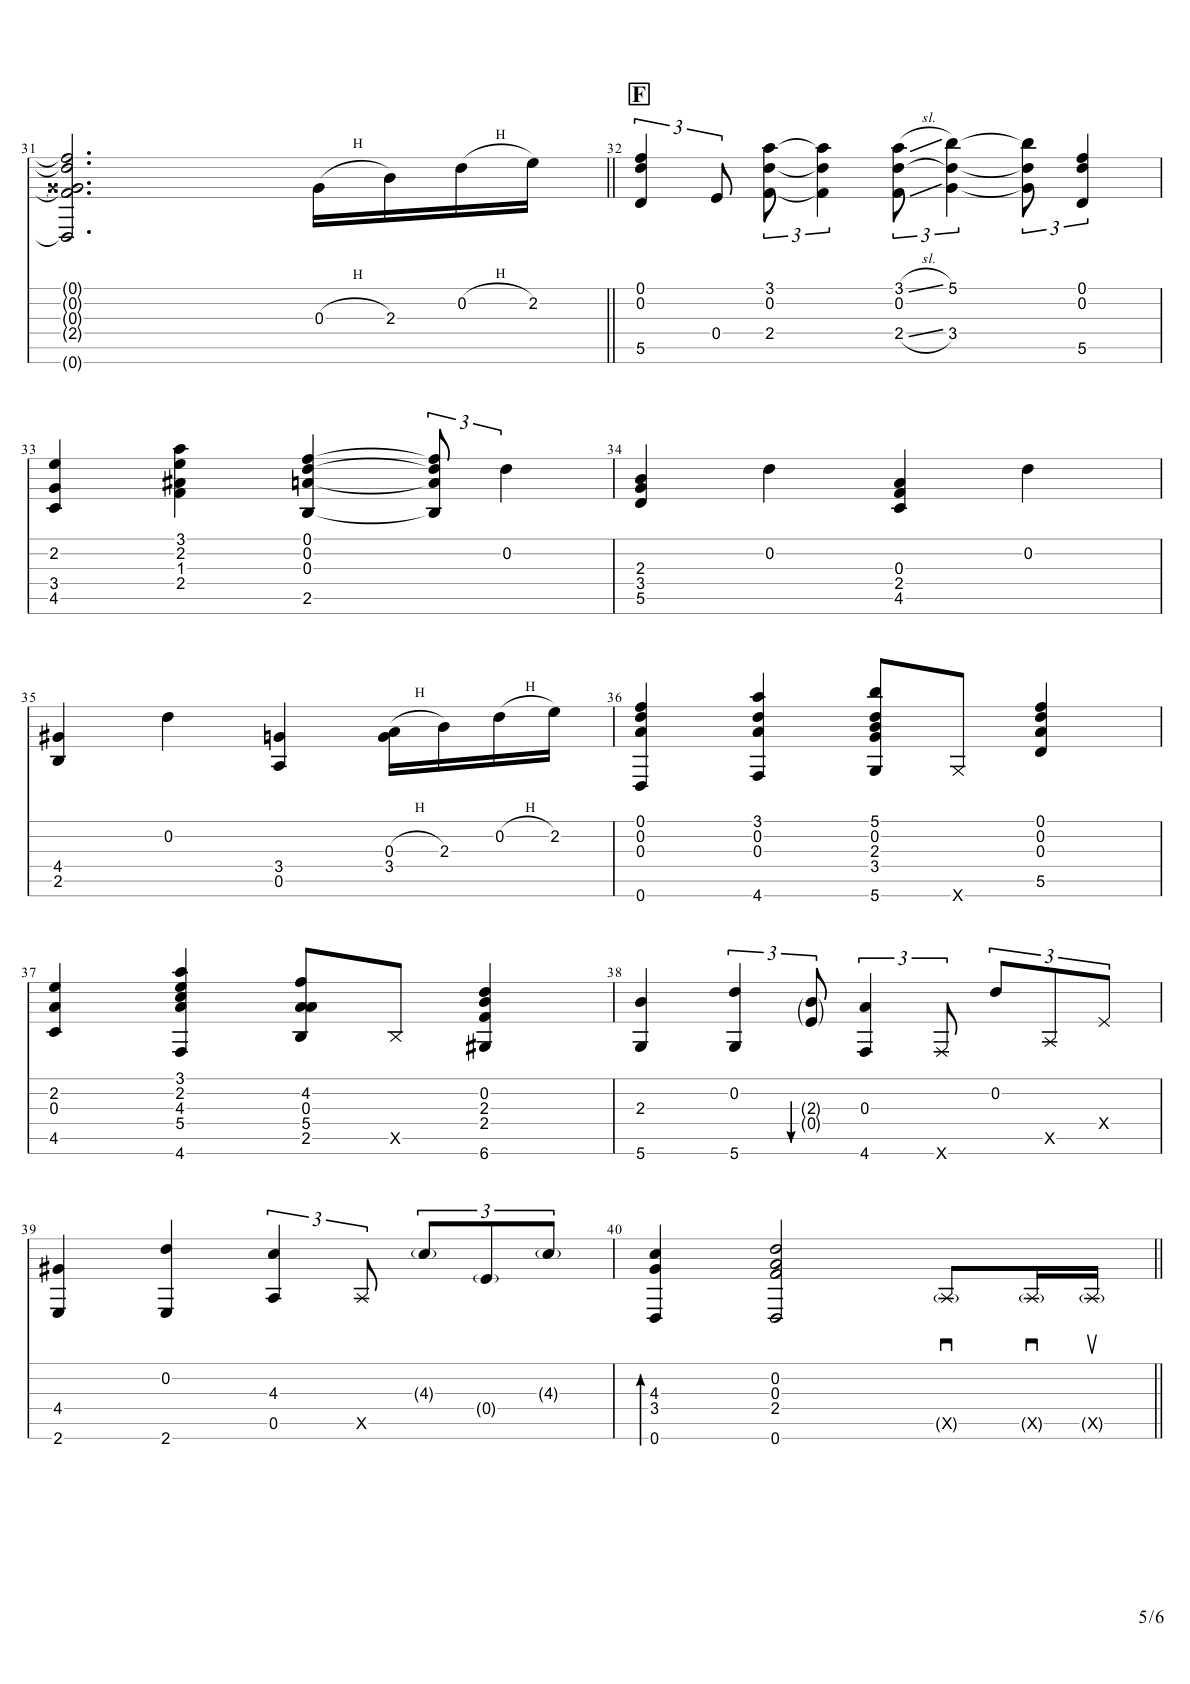0: (675, 179, 695, 200), (738, 179, 759, 200), (865, 179, 886, 200), (675, 219, 695, 239), (738, 219, 759, 239), (464, 297, 484, 318), (464, 318, 484, 339), (697, 439, 717, 460), (478, 660, 498, 681), (478, 700, 498, 721), (628, 721, 649, 742), (314, 219, 334, 239), (589, 179, 608, 200), (798, 179, 818, 200), (675, 200, 695, 219), (738, 200, 759, 219), (738, 239, 759, 259), (564, 318, 583, 339), (806, 297, 826, 318), (806, 318, 826, 339), (665, 418, 684, 439), (873, 418, 892, 439), (873, 439, 892, 460), (497, 479, 516, 500), (873, 479, 892, 500), (663, 600, 683, 621), (780, 579, 800, 600), (780, 600, 800, 621), (829, 560, 850, 579), (343, 681, 363, 700), (546, 660, 565, 681), (546, 700, 565, 721), (589, 200, 608, 219), (806, 339, 826, 358), (497, 399, 516, 418), (873, 460, 892, 479), (497, 460, 516, 479), (529, 500, 549, 519), (873, 500, 892, 519), (529, 560, 549, 579), (780, 560, 800, 579), (900, 560, 920, 579)
1: (380, 318, 401, 339)
2: (771, 219, 792, 239), (630, 297, 650, 318), (722, 297, 743, 318), (722, 418, 743, 439), (774, 439, 795, 460), (343, 700, 363, 721), (372, 219, 392, 239), (771, 200, 792, 219), (297, 297, 317, 318), (380, 339, 401, 358), (464, 339, 484, 358), (497, 439, 516, 460), (529, 579, 549, 600), (529, 600, 549, 621), (628, 560, 649, 579), (279, 560, 299, 579)
3: (380, 297, 401, 318), (630, 318, 650, 339), (722, 318, 743, 339), (628, 700, 649, 721), (675, 162, 695, 182), (738, 162, 759, 182), (865, 162, 886, 182), (297, 318, 317, 339), (798, 162, 818, 182), (826, 200, 845, 219)
4: (410, 660, 430, 681), (497, 418, 516, 439), (596, 479, 616, 500), (279, 579, 299, 600), (279, 600, 299, 621), (628, 681, 649, 700), (297, 339, 317, 358), (665, 500, 684, 519)
5: (826, 219, 845, 239), (865, 239, 886, 259), (630, 339, 650, 358), (722, 339, 743, 358), (713, 579, 733, 600), (622, 239, 641, 259), (710, 239, 729, 259), (873, 339, 892, 358), (713, 560, 733, 579), (713, 621, 733, 640), (780, 621, 800, 640)
6: (529, 621, 549, 640)
h: (419, 118, 439, 139), (285, 118, 304, 139), (449, 200, 470, 219), (630, 399, 650, 418), (506, 200, 525, 219), (741, 399, 760, 418)
x: (393, 600, 413, 621), (935, 600, 956, 621), (841, 721, 862, 742), (898, 721, 918, 742), (878, 600, 898, 621), (435, 700, 455, 721), (956, 721, 975, 742)
